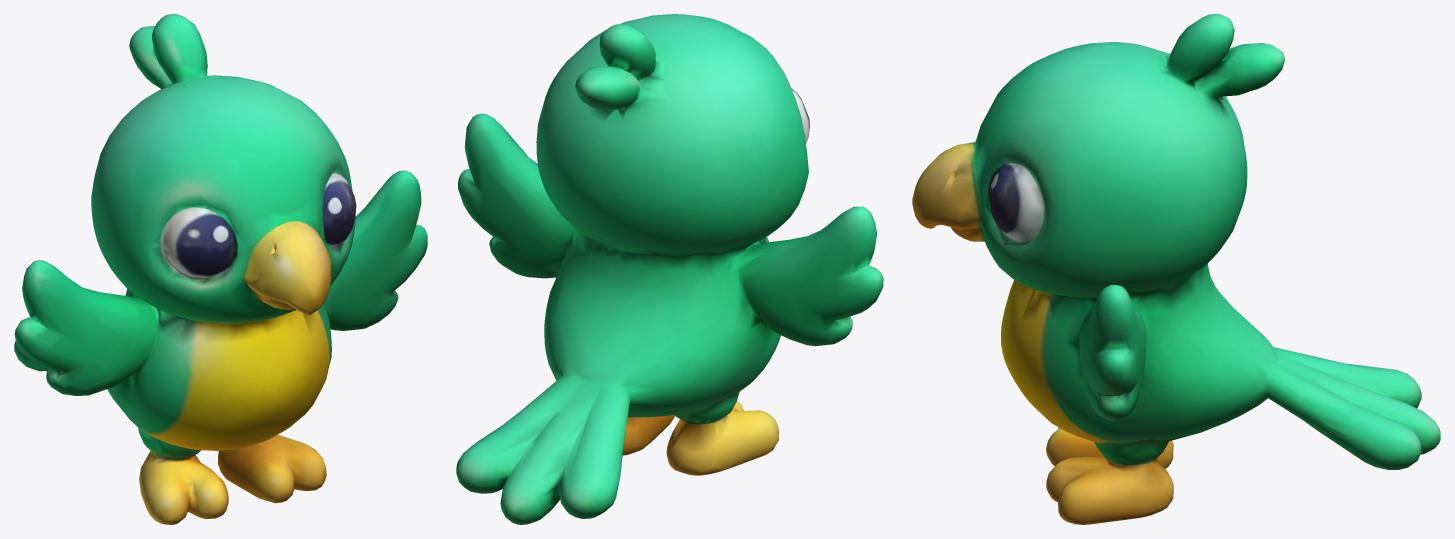
File: char-flint.glb
3 views of the same model, side by side, from view 1: azimuth 30°, elevation 25°; view 2: azimuth 150°, elevation 25°; view 3: azimuth 270°, elevation 25° (orthographic). The views are drawn at different scales.
Parts seen in each view (by area): view 1: tripo_node_7d8aee36-26b2-4f07-b5c4-3a96108bf8b0; view 2: tripo_node_7d8aee36-26b2-4f07-b5c4-3a96108bf8b0; view 3: tripo_node_7d8aee36-26b2-4f07-b5c4-3a96108bf8b0.
Part boxes in pixels (x1=…): tripo_node_7d8aee36-26b2-4f07-b5c4-3a96108bf8b0: x1=14, y1=14, x2=427, y2=524; tripo_node_7d8aee36-26b2-4f07-b5c4-3a96108bf8b0: x1=456, y1=14, x2=883, y2=524; tripo_node_7d8aee36-26b2-4f07-b5c4-3a96108bf8b0: x1=912, y1=14, x2=1440, y2=524.
Bounding box in the file's own units: 0.9489 × 0.9815 × 0.9996.
1 material, 1 textured.
